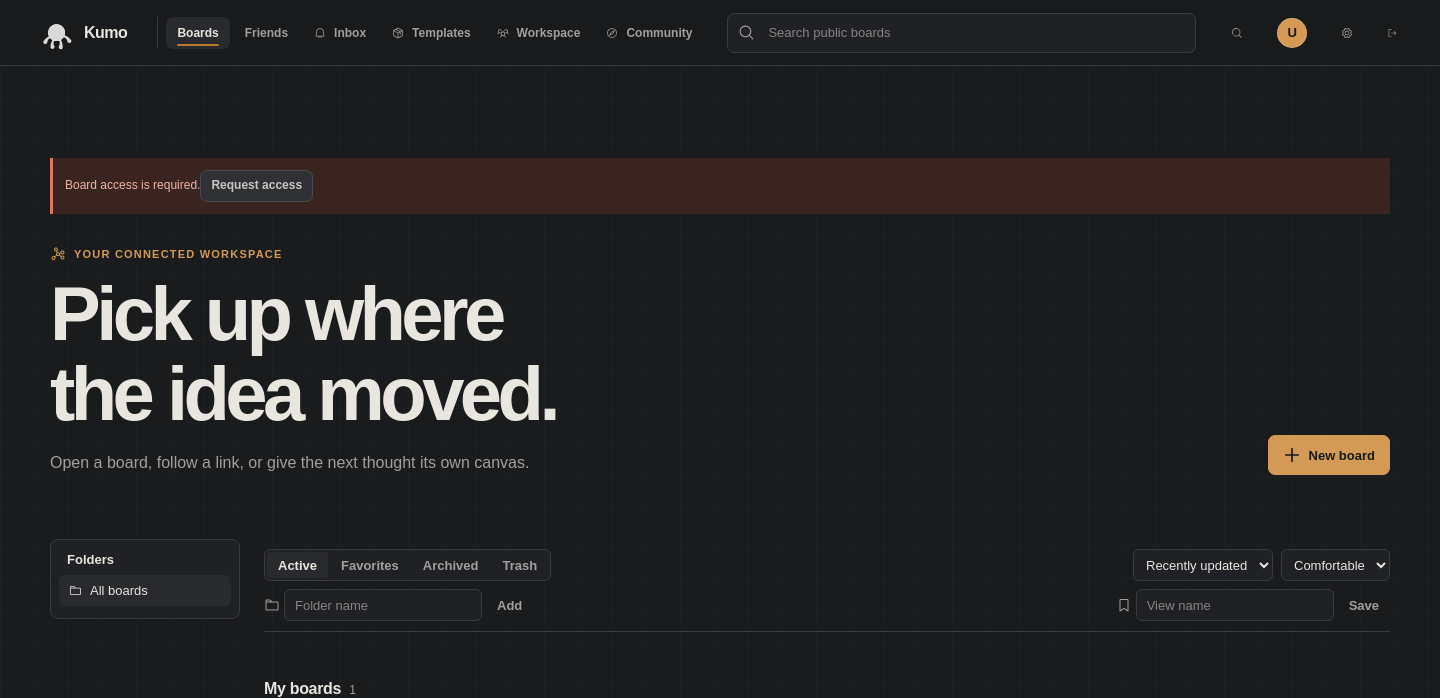
Test: BoardDashboard › redeems governed links and offers an access request when a direct board is unavailable
Expected: the message shows "Board access is required", [65,178,200,192]
Click the button "Request access" at (257, 186), box [200,170,313,202]
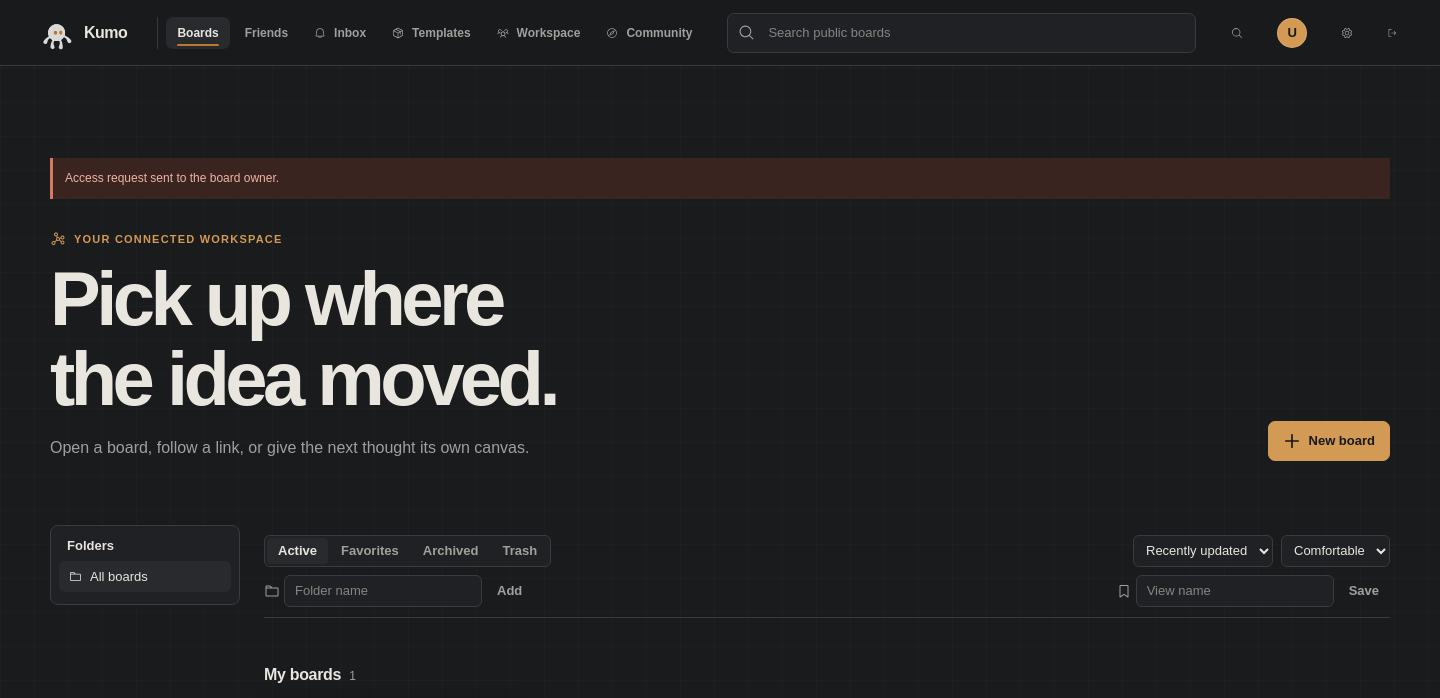
Result: the message shows "Access request sent" at [65,171,279,185]
